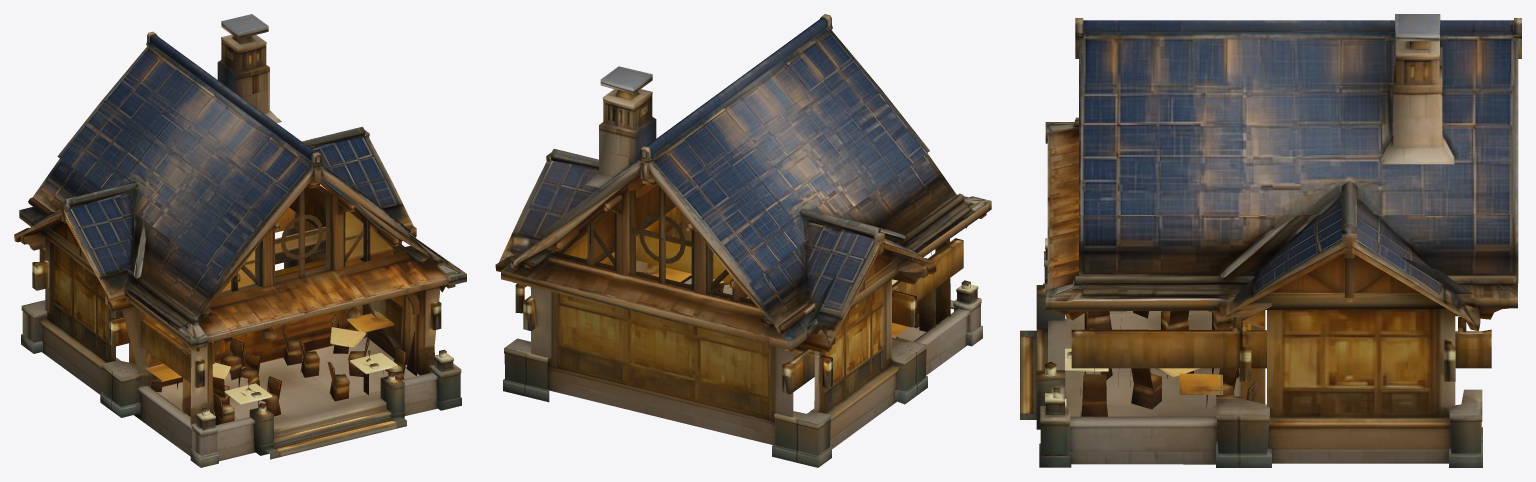
File: tavern.glb
3 views of the same model, side by side, from view 1: azimuth 30°, elevation 25°; view 2: azimuth 150°, elevation 25°; view 3: azimuth 270°, elevation 25° (orthographic). The views are drawn at different scales.
Visible parts, largest first — view 1: tripo_488465d6_2745_4588_a70b_053ee39314ae; view 2: tripo_488465d6_2745_4588_a70b_053ee39314ae; view 3: tripo_488465d6_2745_4588_a70b_053ee39314ae.
Part boxes in pixels (<box>): tripo_488465d6_2745_4588_a70b_053ee39314ae: <box>14,14,466,467</box>; tripo_488465d6_2745_4588_a70b_053ee39314ae: <box>495,14,991,467</box>; tripo_488465d6_2745_4588_a70b_053ee39314ae: <box>1020,14,1521,467</box>.
Size of the model in its own units: 0.9302 by 0.8804 by 0.9995.
Materials: 1 (1 with a texture image).
